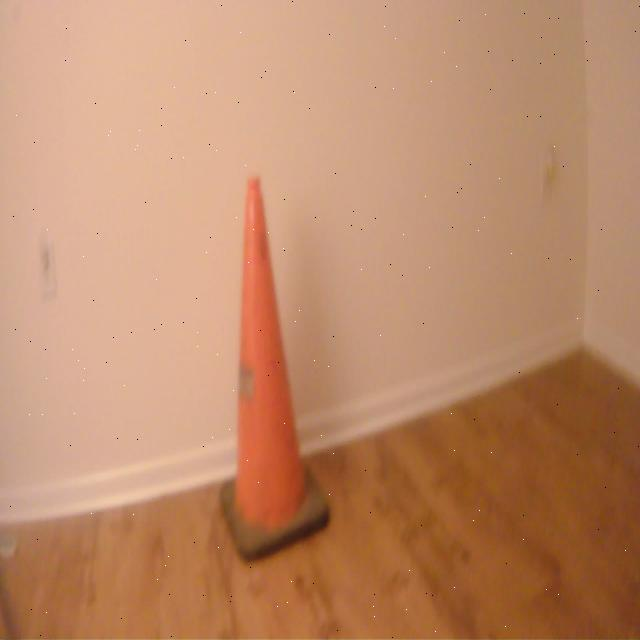traffic cone: (217, 165, 335, 568)
